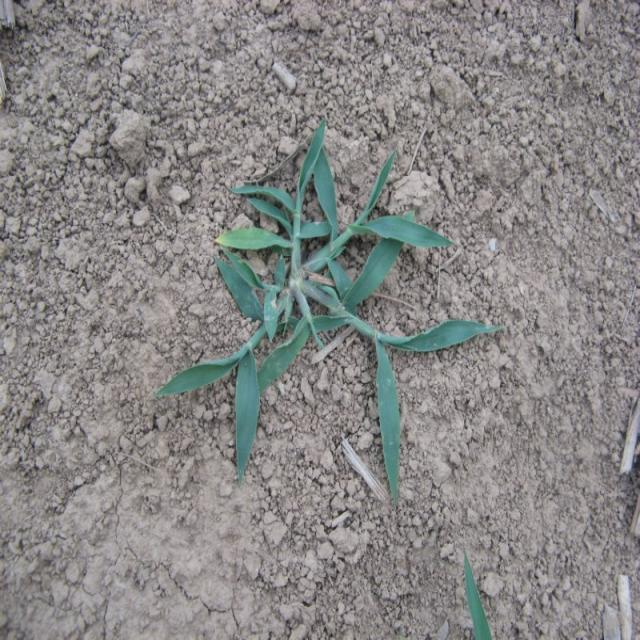bg: (162, 119, 500, 504)
